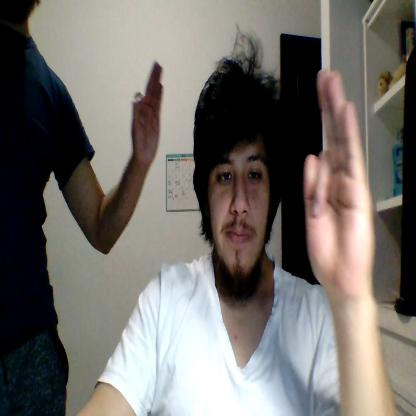F: (304, 70, 376, 289), (131, 60, 163, 167)
